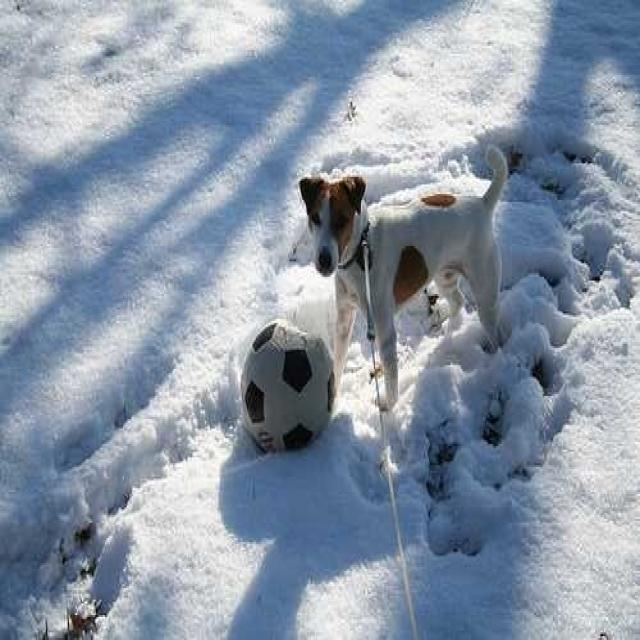ball: (242, 320, 337, 454)
